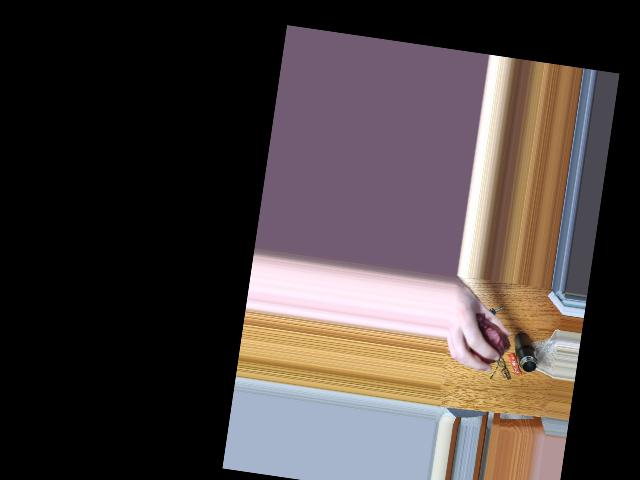onion: (469, 316, 509, 364)
